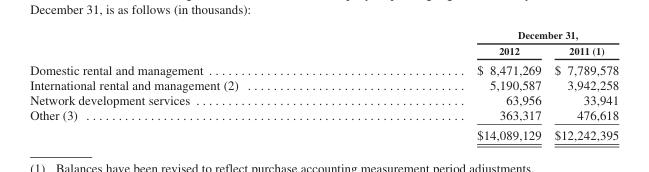table: (29, 28, 618, 141)
table column: (29, 28, 356, 141), (356, 28, 547, 141), (547, 28, 618, 141)
table column header: (29, 28, 618, 59)
table row: (29, 59, 618, 77), (29, 106, 618, 124), (29, 42, 618, 59), (29, 124, 618, 141), (29, 91, 618, 106), (29, 28, 618, 42), (29, 77, 618, 91)
table spanning cell: (356, 28, 618, 42)
